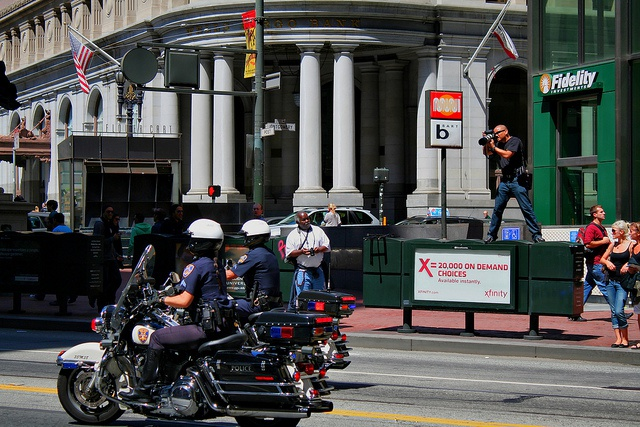non-vehicle: (54, 244, 337, 426), (225, 259, 355, 337)
